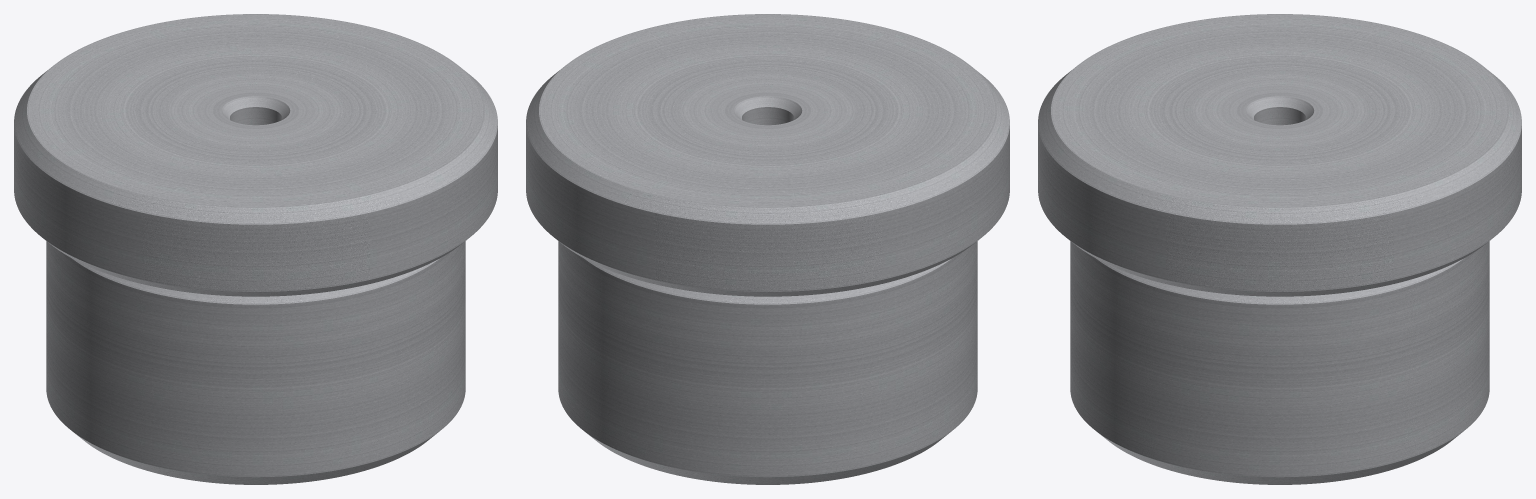
File: die.glb
The picture shows the model from 3 angles, left to right: view 1: azimuth 30°, elevation 25°; view 2: azimuth 150°, elevation 25°; view 3: azimuth 270°, elevation 25°; orthographic projection.
Parts seen in each view (by area): view 1: Die; view 2: Die; view 3: Die.
Boxes of the visible parts, <box> form: Die: <box>14,14,497,484</box>; Die: <box>526,14,1009,484</box>; Die: <box>1038,14,1521,484</box>.
Bounding box in the file's own units: 0.015 × 0.01 × 0.015.
Materials: 1 (1 with a texture image).
